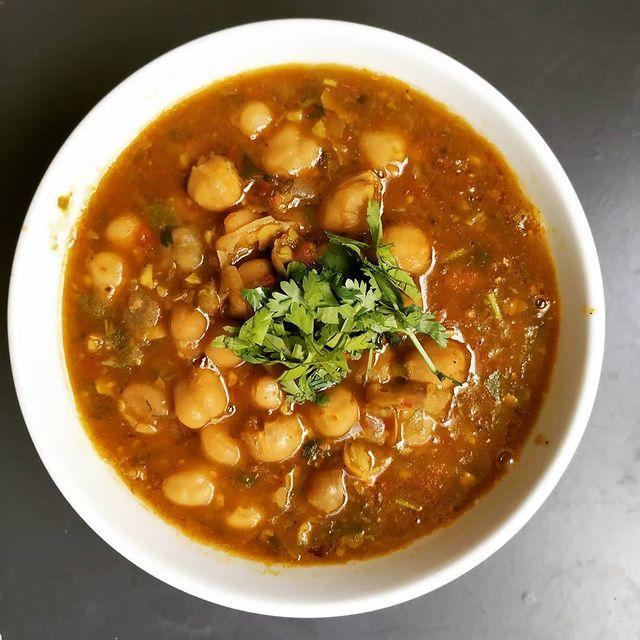Chole: (125, 123, 465, 520)
